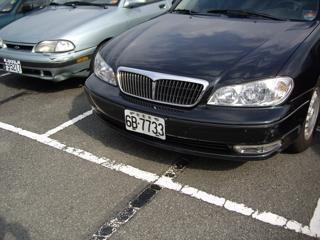plate: (123, 106, 166, 140), (3, 56, 24, 75)
